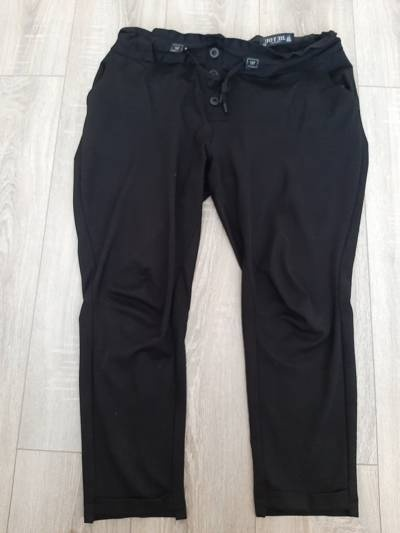Pants: (50, 18, 380, 514)
